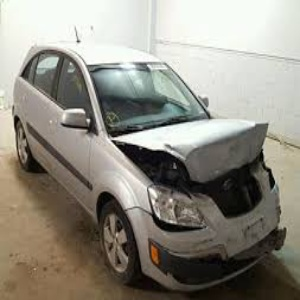bonnet: (152, 116, 270, 180)
head_lights: (147, 187, 208, 234)
